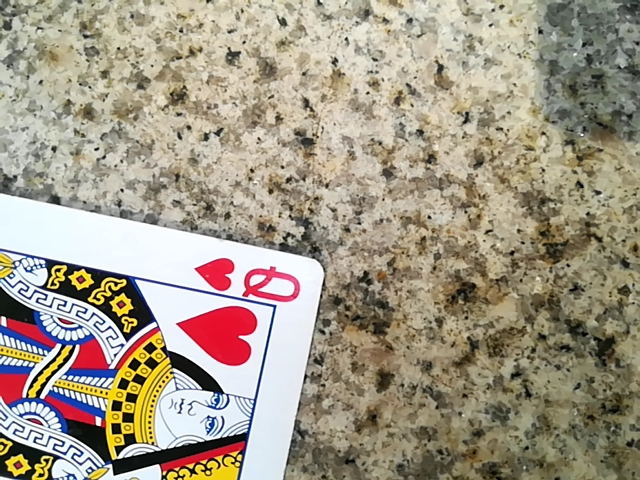hx q: (1, 173, 320, 479)
